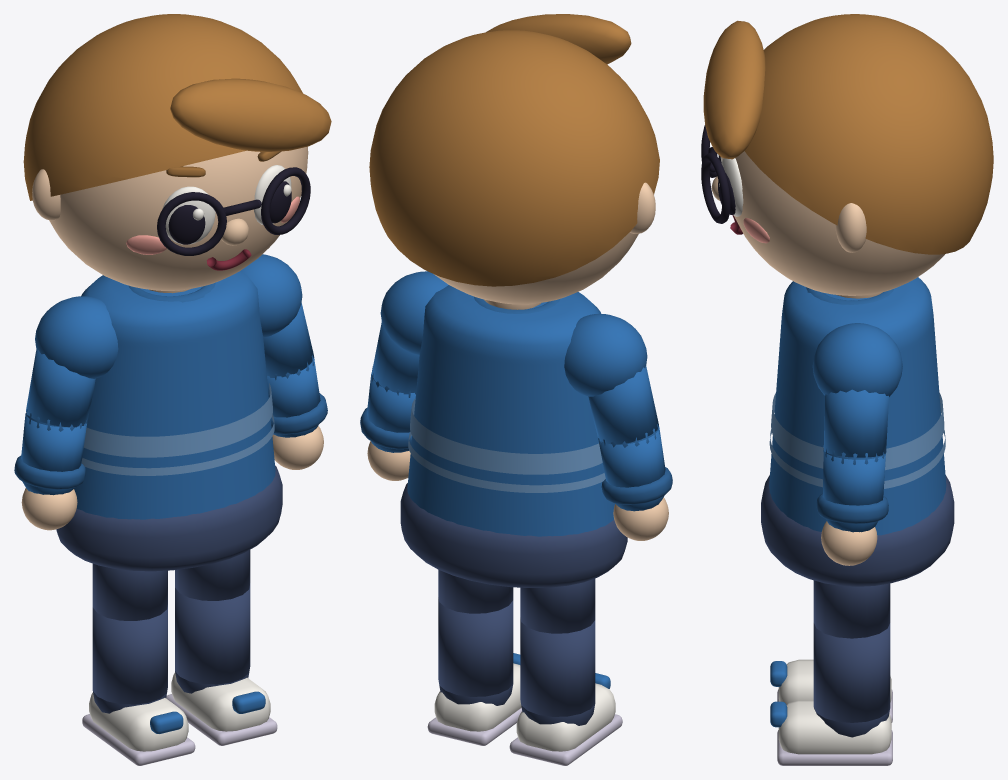
The model's file is ch_max.fbx.
3 renders of one model, left to right at view 1: azimuth 30°, elevation 25°; view 2: azimuth 150°, elevation 25°; view 3: azimuth 270°, elevation 25°, orthographic.
Parts seen in each view (by area): view 1: ch_max; view 2: ch_max; view 3: ch_max.
Boxes of the visible parts, x1,y1,x2,y2 form: ch_max: (14,14,331,765); ch_max: (360,14,672,765); ch_max: (701,14,993,765).
Bounding box in the file's own units: 0.6284 × 1.38 × 0.5185.
